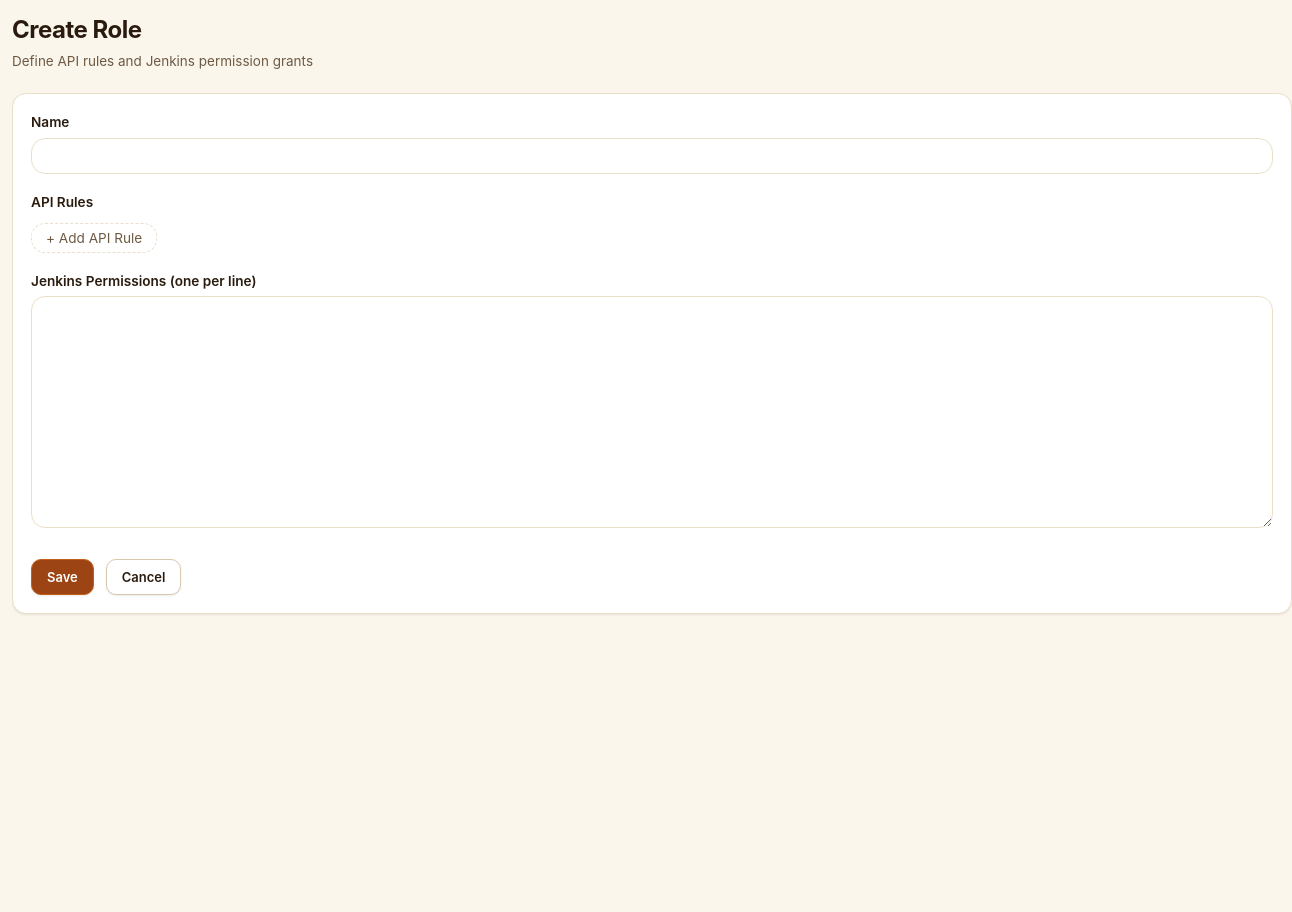
Test: RoleForm — create mode › shows error message when create fails
Type "duplicate" into the field. click: (652, 156)
box: [31,138,1273,174]
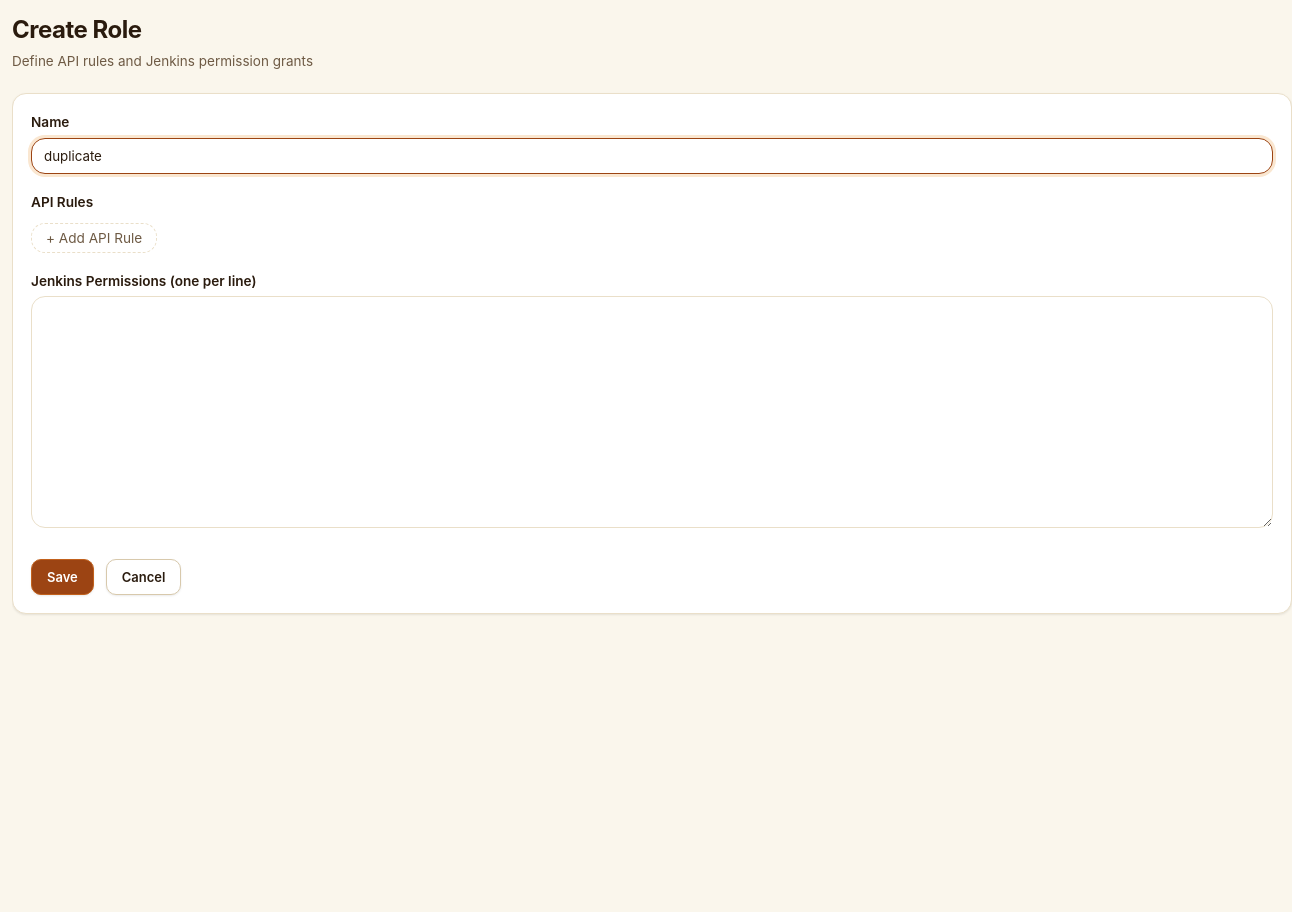
Click the button "Save". click: click(62, 576)
box: [31,558,94,594]
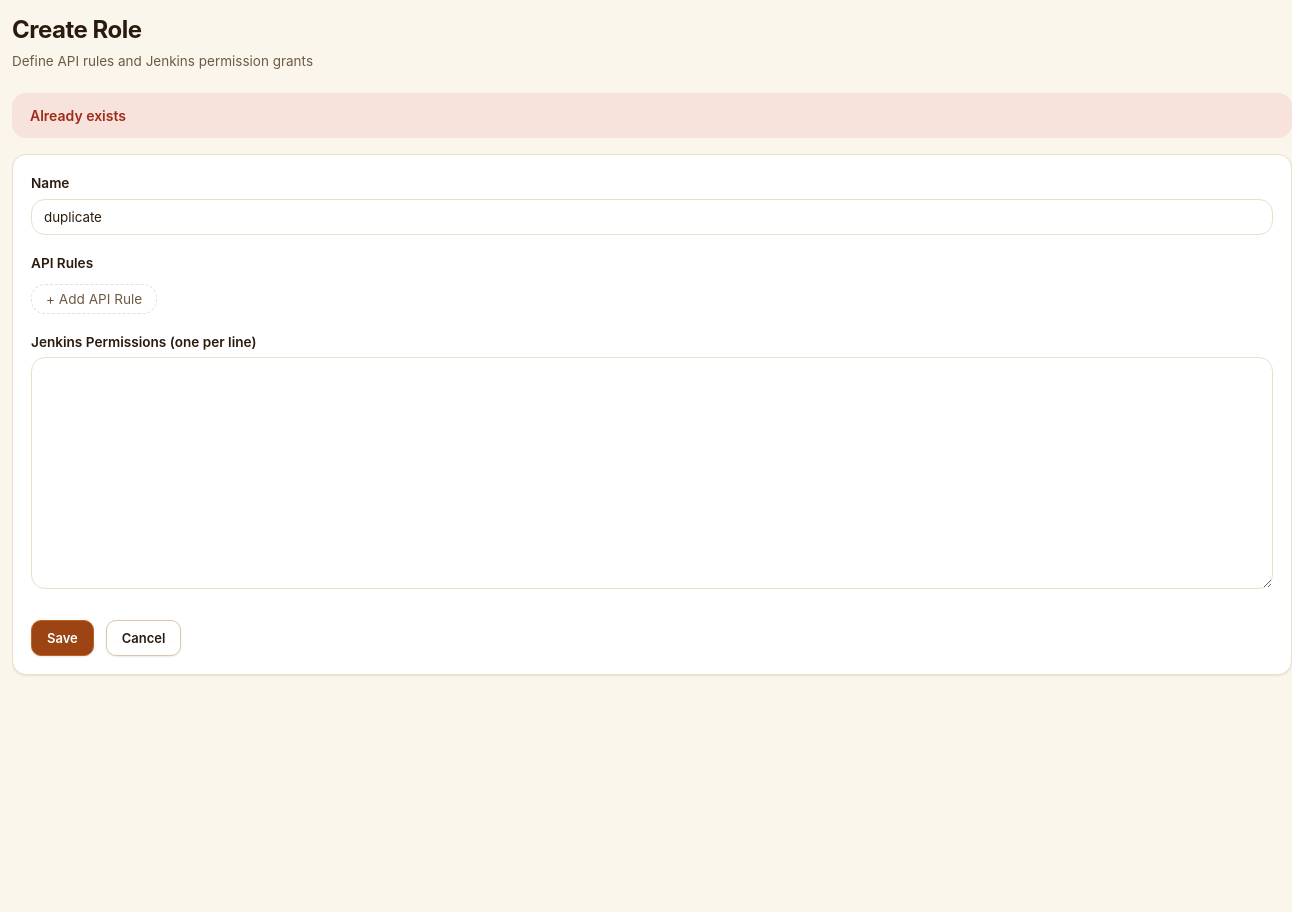
expect the text "Already exists" is shown: met, box [12,93,1291,138]
